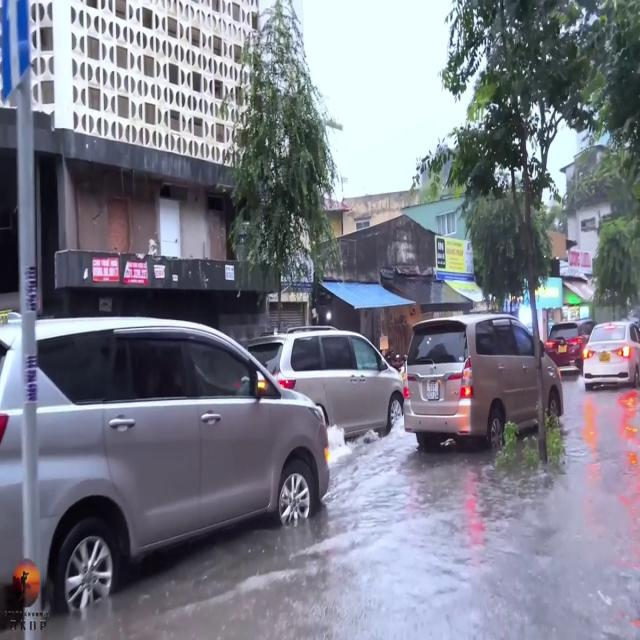bien_trang: (426, 380, 439, 407)
